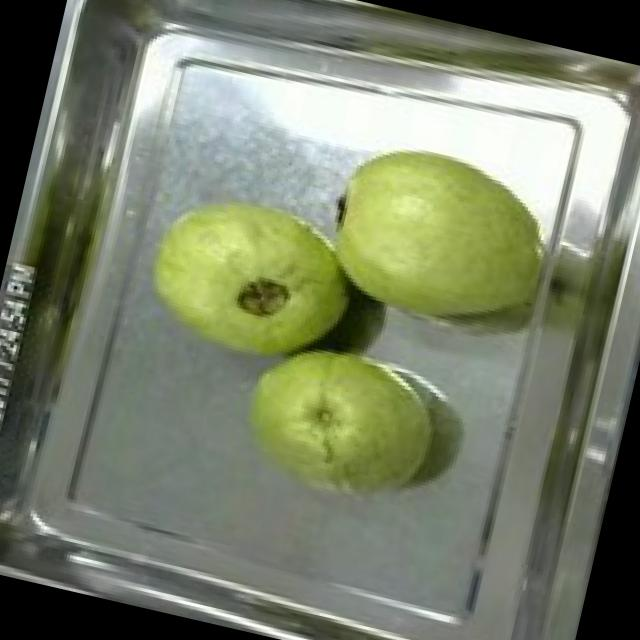Fruit: (305, 118, 565, 350), (121, 168, 376, 390), (218, 318, 454, 526)
